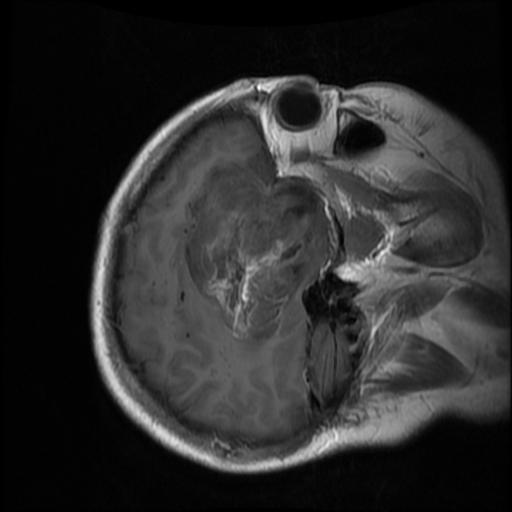glioma: (180, 154, 314, 341)
